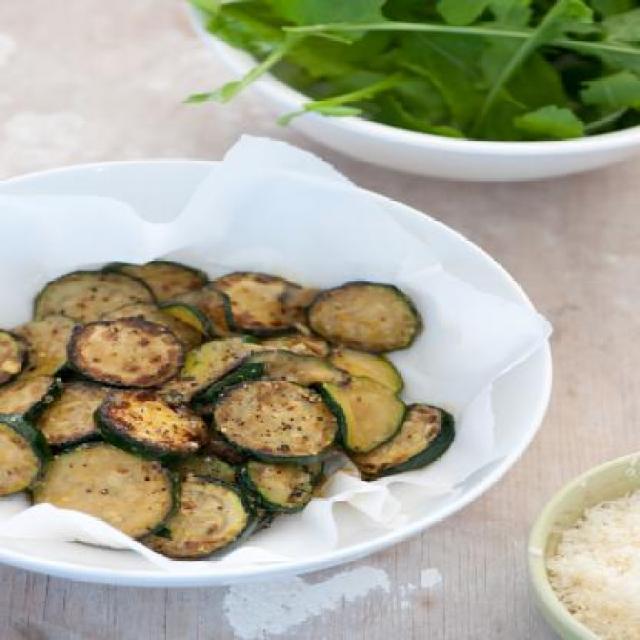Zucchini: (0, 250, 443, 562), (204, 370, 352, 467)
